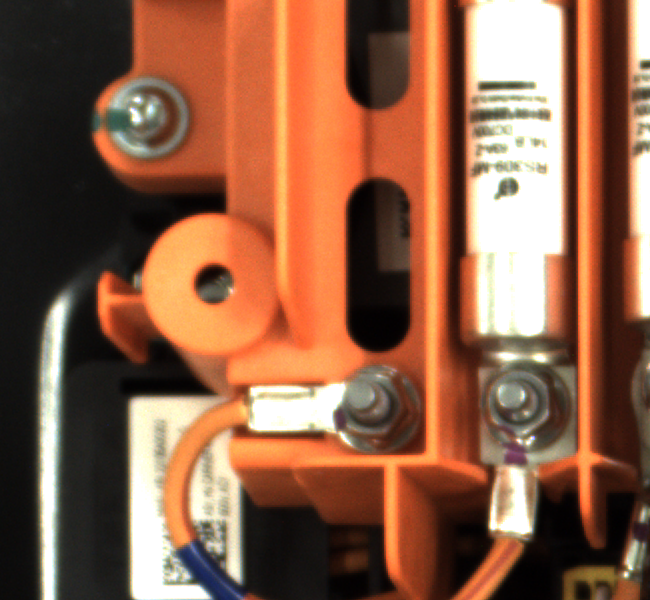screw_m: (96, 67, 209, 168)
screw_s: (326, 366, 434, 451), (477, 358, 569, 449)
